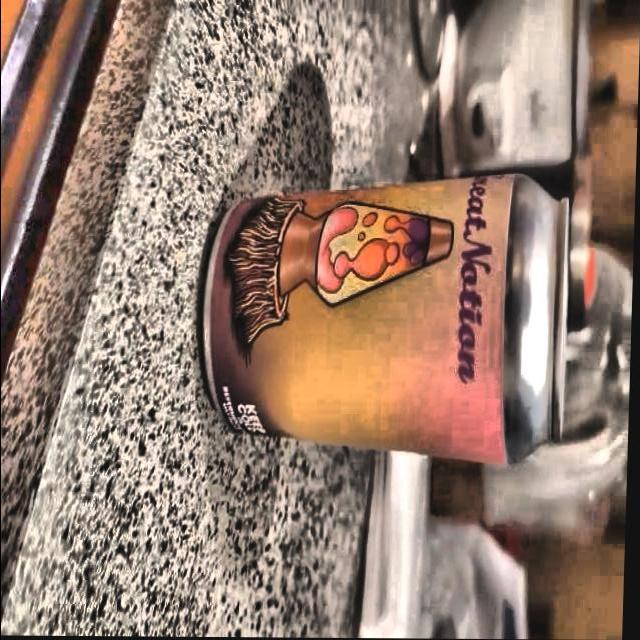Aluminum Can: (189, 164, 580, 472)
